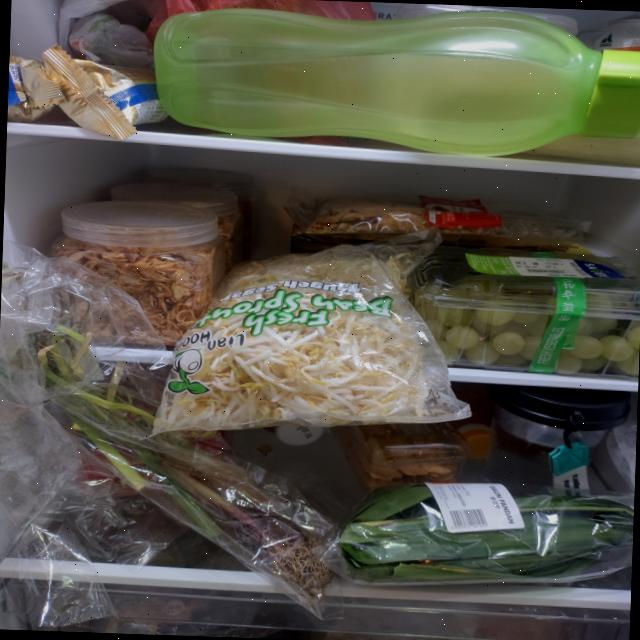bean_sprouts: (157, 242, 434, 441)
grape: (411, 273, 640, 376)
leafy_greens: (336, 479, 634, 594)
spring_onion: (0, 320, 344, 599)
